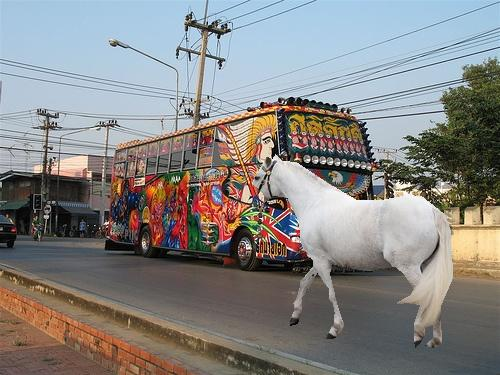tampered: (253, 155, 453, 348)
